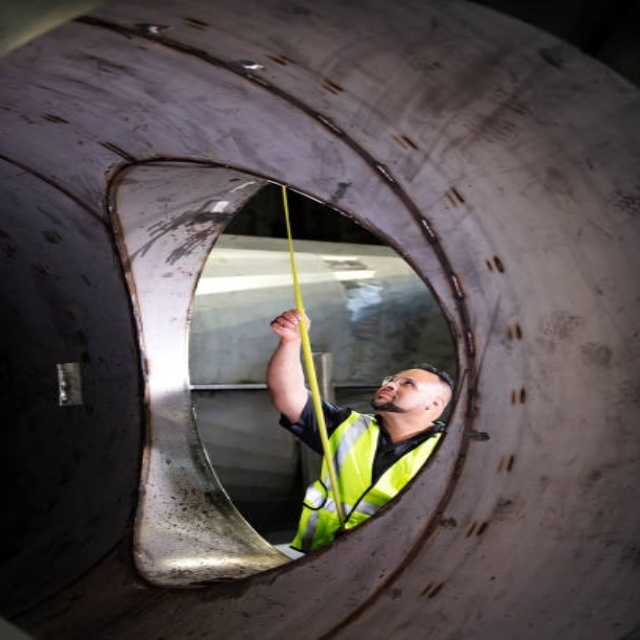Gafas: (381, 375, 438, 392)
Sin_guantes: (269, 308, 308, 340)
Sin_mascara: (374, 390, 396, 401)
